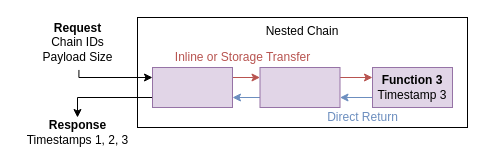
Some shapes in this 485 by 165 pixel diagram are drawn without their labels. Here are the shapes that lost their labels. From the top down, the centre of each, then its label:
point 192,87: Function 1 Timestamp 1
point 299,87: Function 2 Timestamp 2
